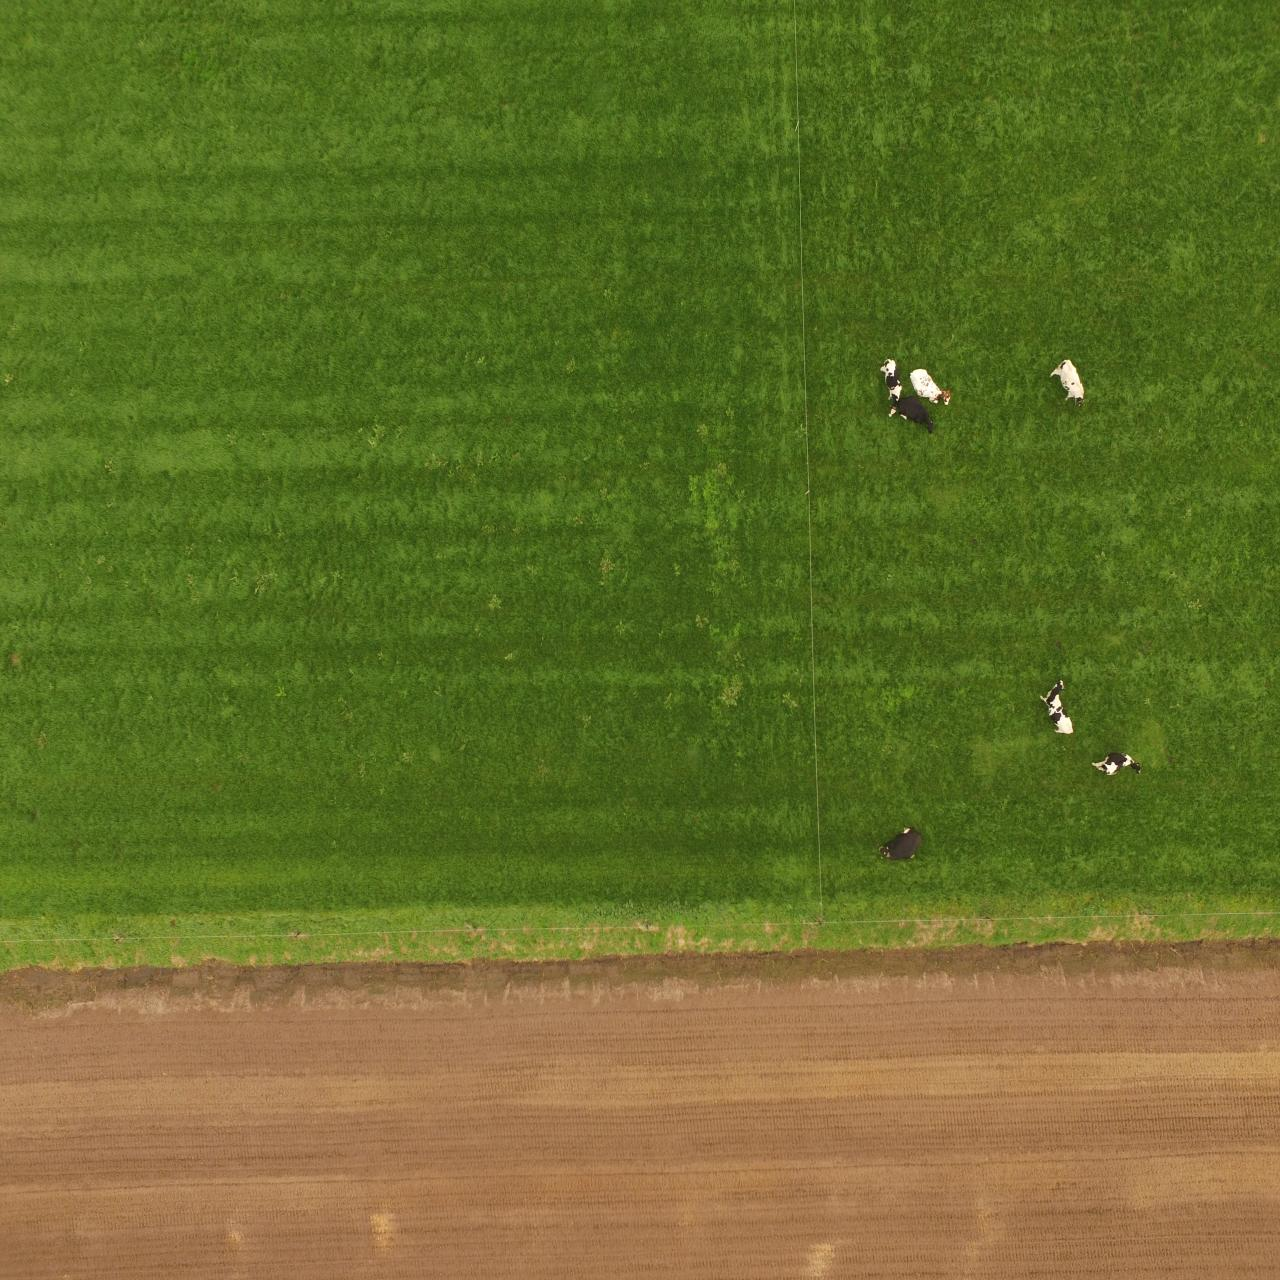cow: (1051, 349, 1094, 418), (869, 821, 925, 865), (1039, 674, 1075, 740), (910, 365, 956, 406), (894, 395, 938, 437), (1090, 749, 1144, 779), (874, 356, 905, 404)
